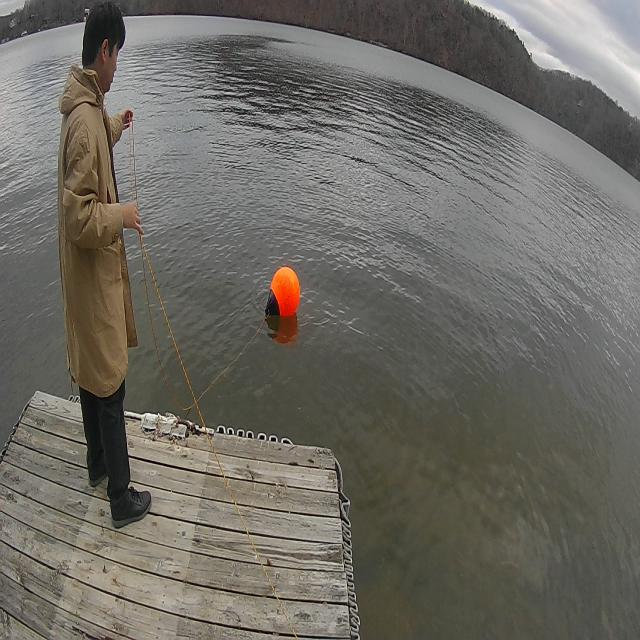Buoy: (263, 257, 302, 332)
